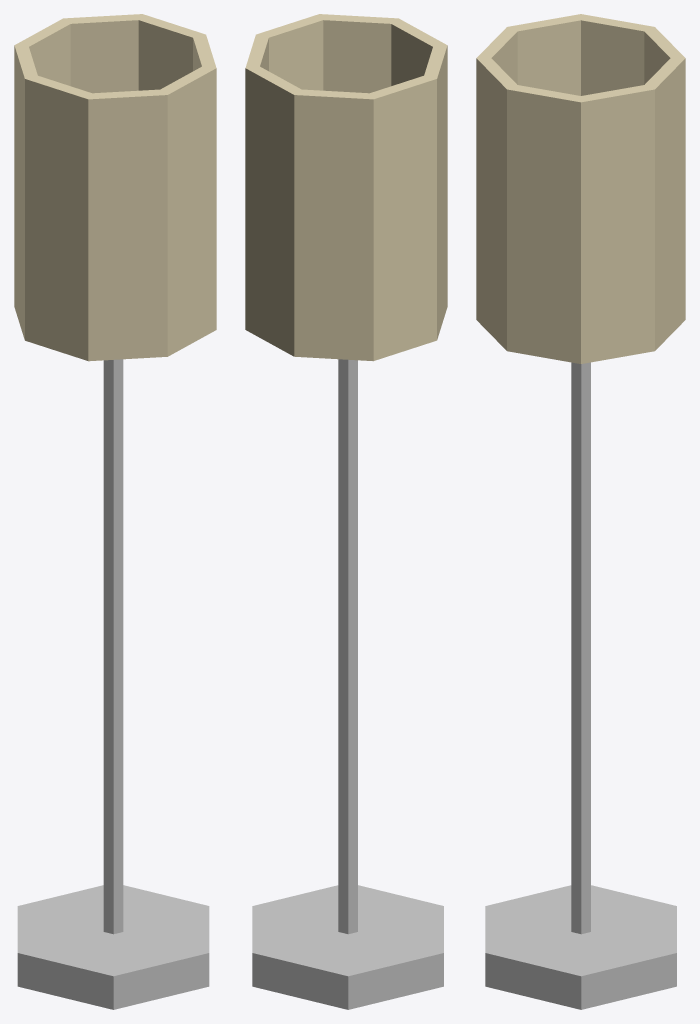
File: quaternius-lamp-2.glb
3 views of the same model, side by side, from view 1: azimuth 30°, elevation 25°; view 2: azimuth 150°, elevation 25°; view 3: azimuth 270°, elevation 25° (orthographic).
Visible parts, largest first — view 1: Lamp2; view 2: Lamp2; view 3: Lamp2.
Part boxes in pixels (x1,y1,x2,y2): Lamp2: (14, 14, 216, 1009); Lamp2: (245, 14, 447, 1009); Lamp2: (476, 14, 685, 1009).
Bounding box in the file's own units: 0.2449 × 1.11 × 0.2313.
